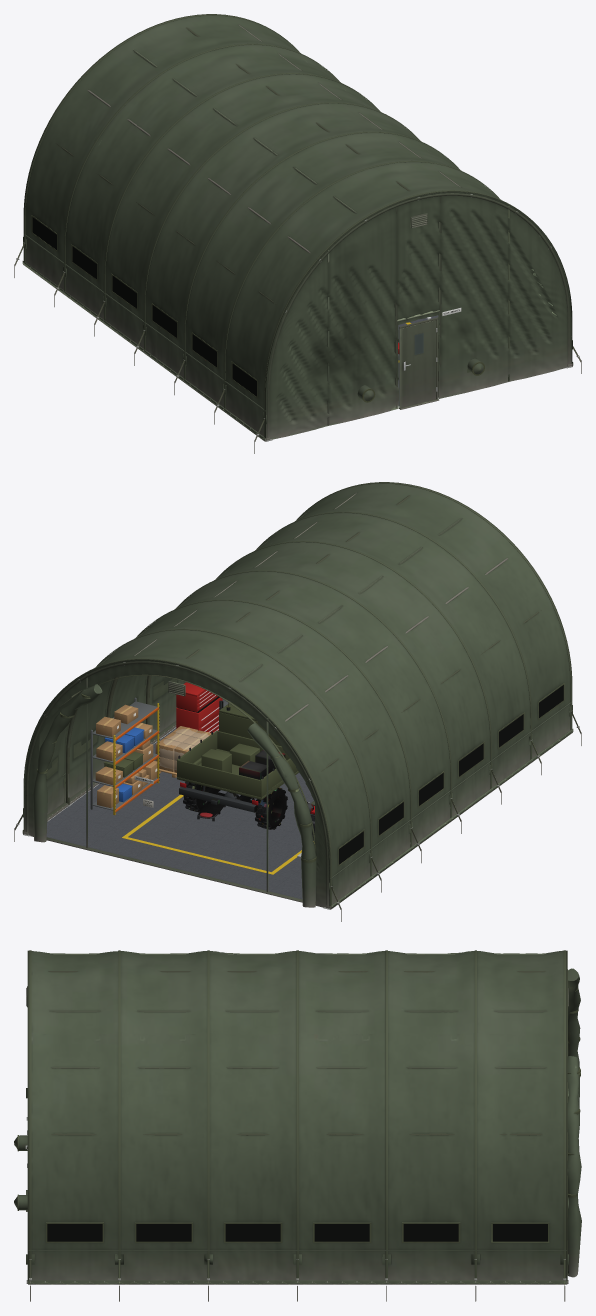
File: mex26-deployed-fitted-web.glb
The picture shows the model from 3 angles, top to bottom: view 1: azimuth 30°, elevation 25°; view 2: azimuth 150°, elevation 25°; view 3: azimuth 270°, elevation 25°; orthographic projection. The views are drawn at different scales.
Visible parts, largest first — view 1: MEX26_shelter, MEX26_purlins, MEX26_frame; view 2: MEX26_shelter, MEX26_fitout, MEX26_frame, MEX26_purlins; view 3: MEX26_shelter, MEX26_purlins.
Part boxes in pixels (x1,y1,x2,y2): MEX26_shelter: [14, 14, 581, 453]; MEX26_purlins: [56, 24, 551, 408]; MEX26_frame: [266, 193, 572, 441]; MEX26_shelter: [14, 482, 581, 921]; MEX26_fitout: [46, 682, 314, 899]; MEX26_frame: [23, 661, 329, 909]; MEX26_purlins: [44, 492, 541, 780]; MEX26_shelter: [14, 950, 581, 1301]; MEX26_purlins: [48, 953, 546, 1135].
Bounding box in the file's own units: 8.66 × 5.53 × 11.67.
Materials: 96 (39 with a texture image).
